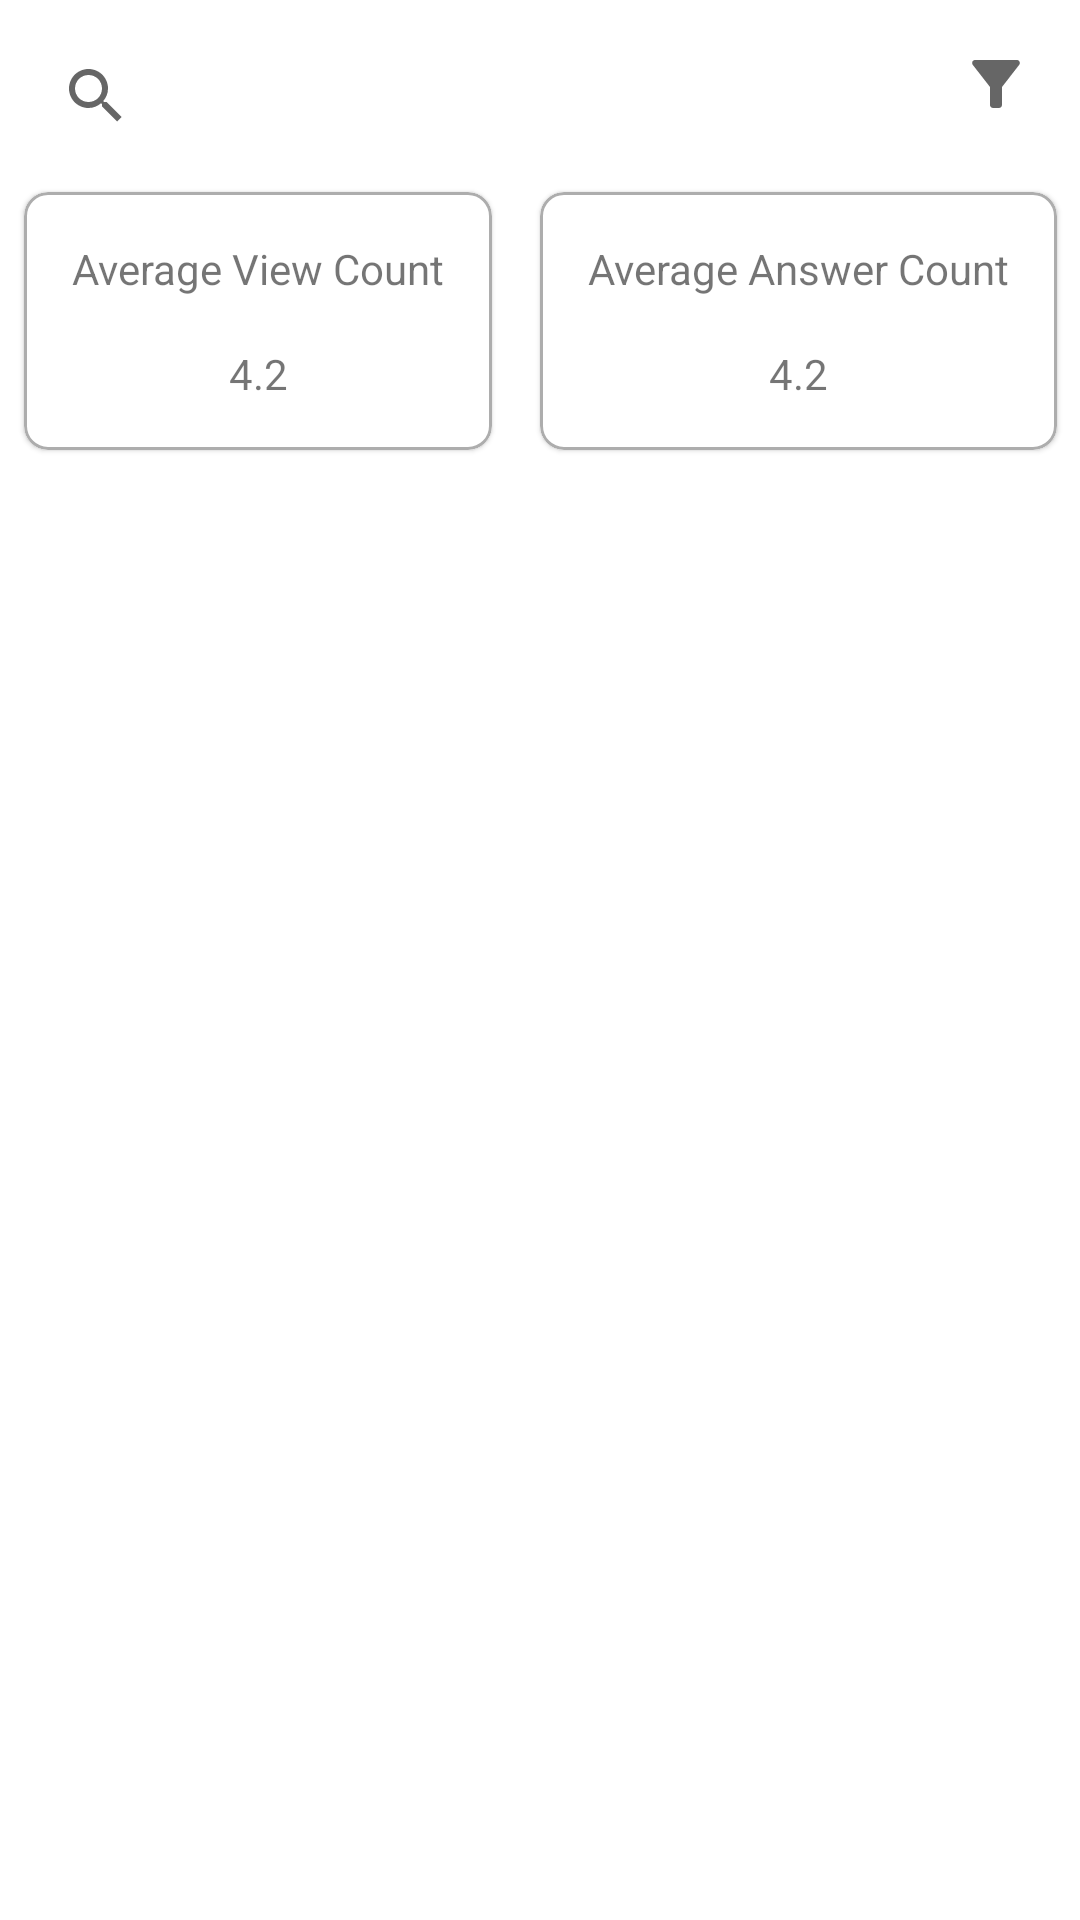

Locate icon controls on the screen. Image size 1080x1920, boxes as (x1, y1, x2, y2).
filter: (972, 60, 1020, 108)
